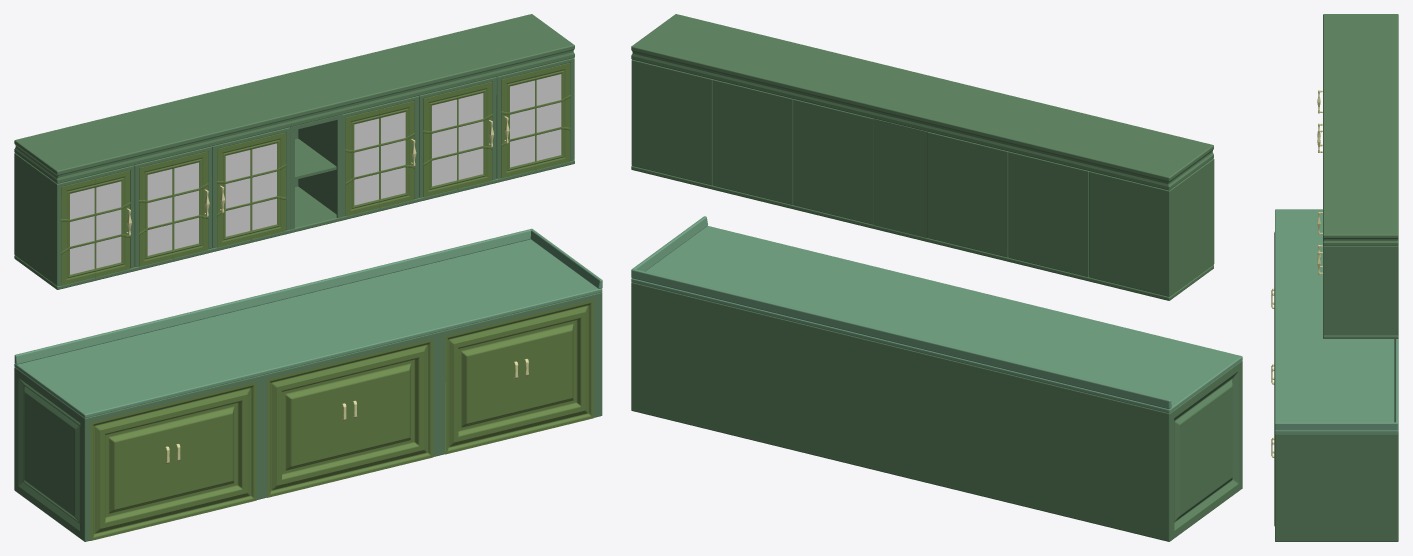
Rendered from mutfak_dolaplari.fbx.
3 renders of one model, left to right at view 1: azimuth 30°, elevation 25°; view 2: azimuth 150°, elevation 25°; view 3: azimuth 270°, elevation 25°, orthographic. The views are drawn at different scales.
Visible parts, largest first — view 1: tezgah, tezgah.017, tezgah.003, tezgah.010, tezgah.006, tezgah.004, tezgah.009, tezgah.019, tezgah.018, üstdolap.001, tezgah.001, üstdolap.004 (+19 smaller); view 2: tezgah.003, tezgah, tezgah.017, üstdolap.001, üstdolap.007, üstdolap.003, üstdolap.006, üstdolap.002, üstdolap.005, üstdolap.004, tezgah.001, tezgah.015 (+1 smaller); view 3: tezgah.017, tezgah, tezgah.003, üstdolap.007, tezgah.002, tezgah.001, tezgah.015.
Part boxes in pixels (bbox=[...]): tezgah: bbox=[14, 239, 602, 418]; tezgah.017: bbox=[14, 14, 574, 183]; tezgah.003: bbox=[14, 292, 602, 541]; tezgah.010: bbox=[346, 339, 433, 477]; tezgah.006: bbox=[169, 382, 256, 520]; tezgah.004: bbox=[90, 403, 171, 540]; tezgah.009: bbox=[267, 360, 348, 497]; tezgah.019: bbox=[516, 300, 593, 436]; tezgah.018: bbox=[445, 318, 517, 454]; üstdolap.001: bbox=[14, 153, 134, 285]; tezgah.001: bbox=[14, 228, 531, 364]; üstdolap.004: bbox=[290, 114, 341, 229]; tezgah.003: bbox=[631, 282, 1242, 541]; tezgah: bbox=[631, 226, 1242, 413]; tezgah.017: bbox=[631, 14, 1213, 190]; üstdolap.001: bbox=[1089, 158, 1214, 296]; üstdolap.007: bbox=[631, 59, 712, 185]; üstdolap.003: bbox=[927, 132, 1008, 257]; üstdolap.006: bbox=[712, 79, 793, 204]; üstdolap.002: bbox=[1008, 151, 1089, 277]; üstdolap.005: bbox=[793, 99, 873, 224]; üstdolap.004: bbox=[873, 118, 927, 237]; tezgah.001: bbox=[631, 269, 1171, 409]; tezgah.015: bbox=[631, 166, 1213, 300]; tezgah.017: bbox=[1323, 14, 1398, 245]; tezgah: bbox=[1275, 209, 1398, 433]; tezgah.003: bbox=[1275, 433, 1398, 541]; üstdolap.007: bbox=[1323, 245, 1398, 335]; tezgah.002: bbox=[1275, 422, 1397, 430]; tezgah.001: bbox=[1394, 339, 1398, 429]; tezgah.015: bbox=[1323, 335, 1398, 338].
Bounding box in the file's own units: 411 × 266 × 99.7.
